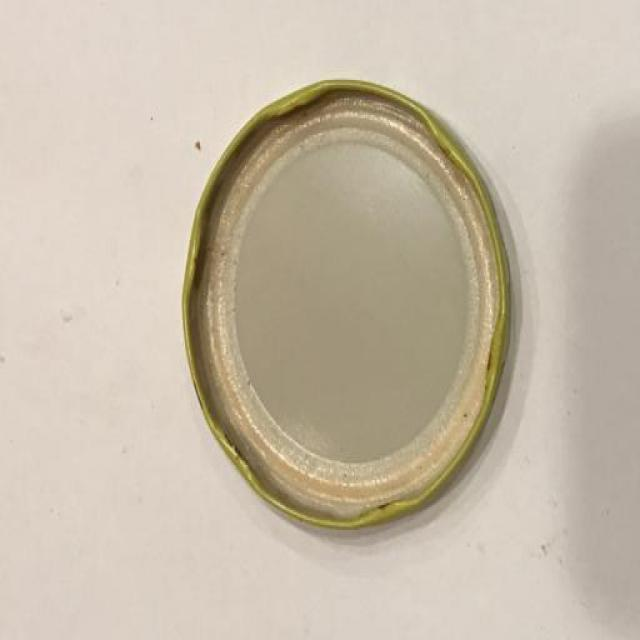metel: (167, 76, 531, 539)
